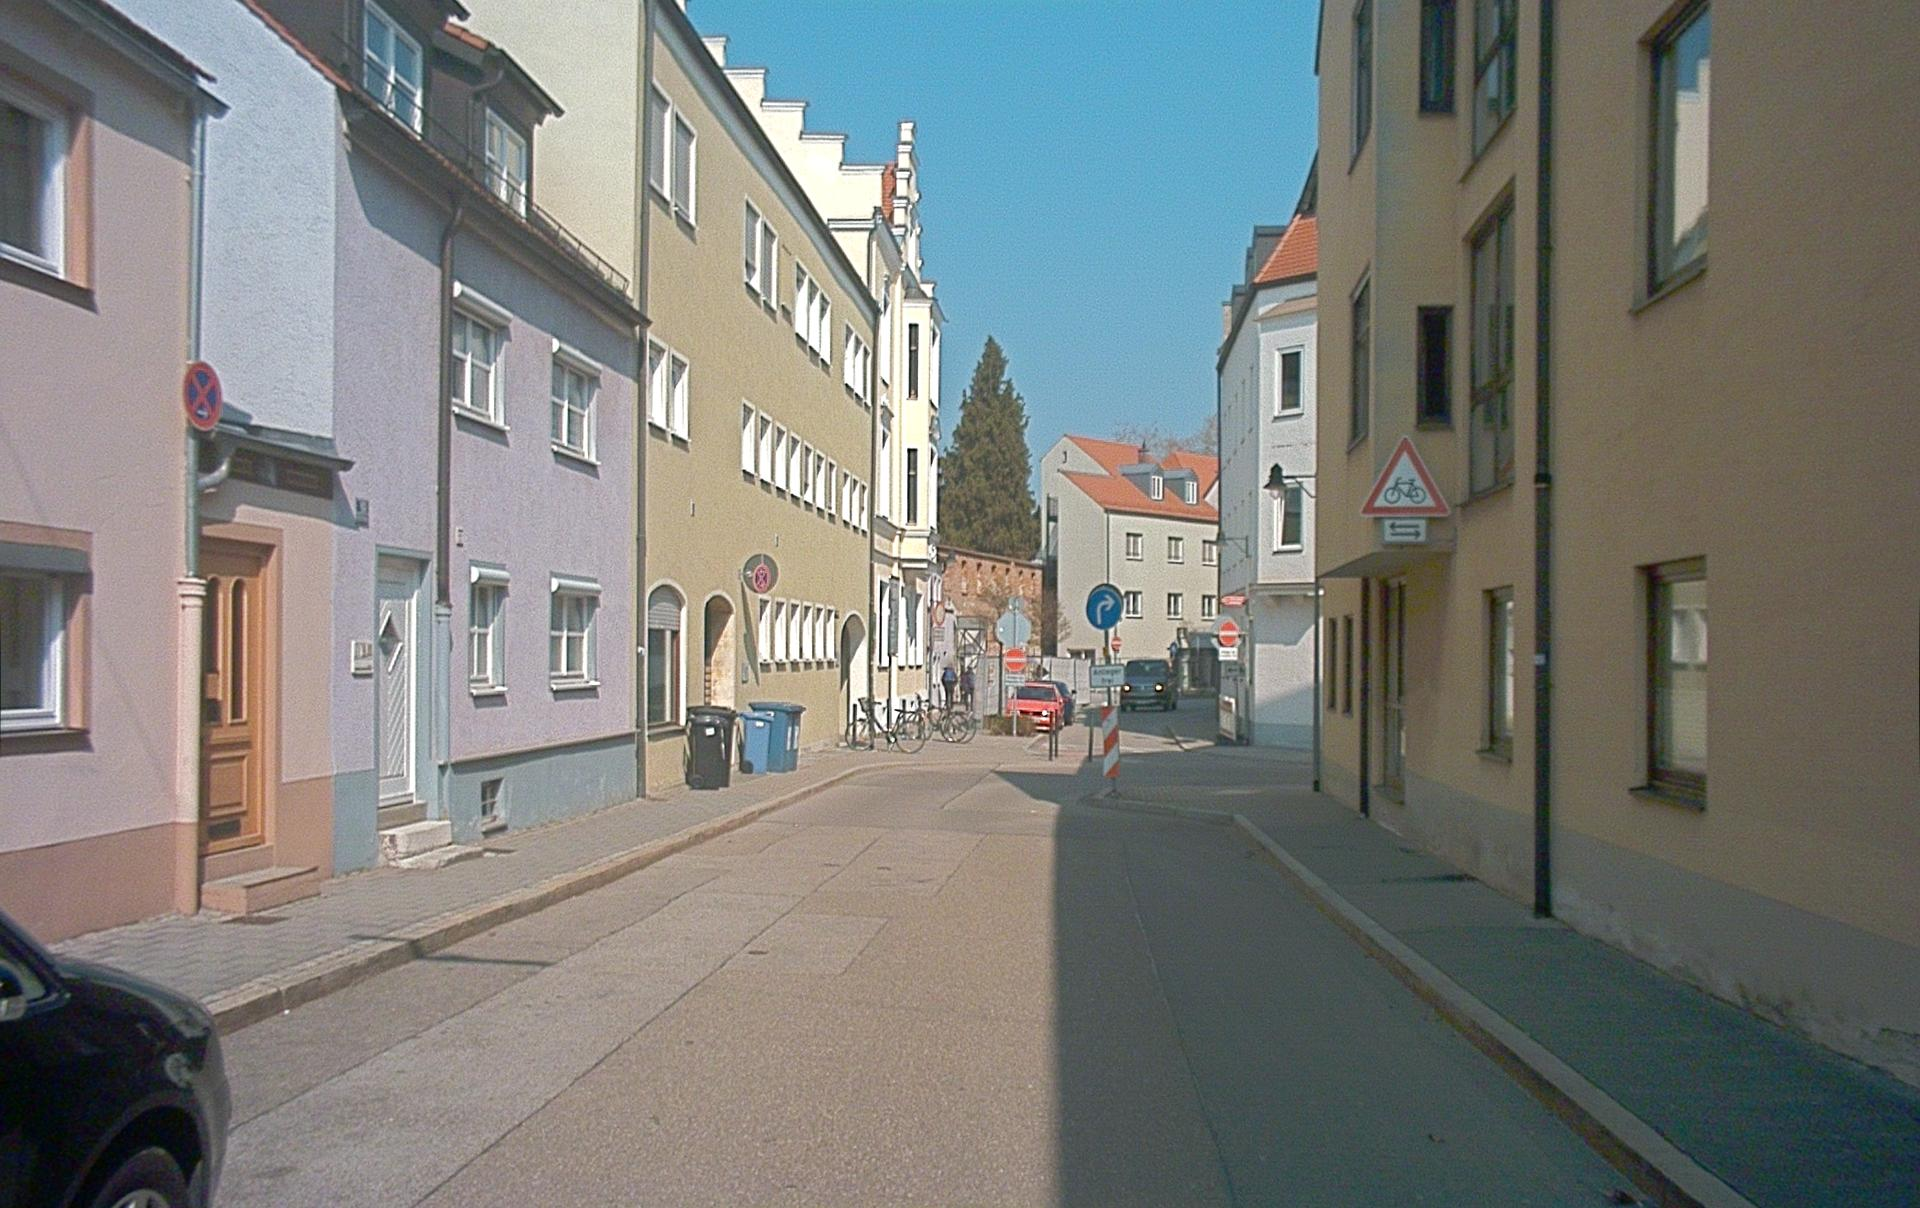car: (1005, 682, 1071, 731), (1121, 658, 1177, 710), (1050, 682, 1074, 724)
